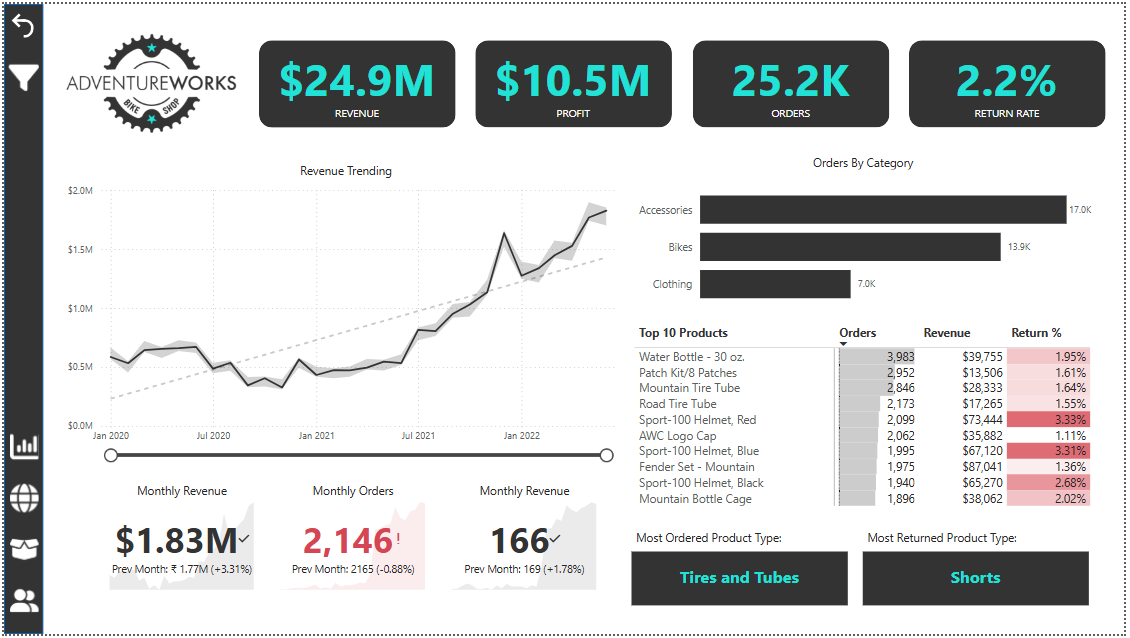

Layout of this report page (visuals, bound fields, positions):
{"tool":"powerbi","page":{"name":"Exec Dashboard","canvas":[1280,720],"ordinal":0},"visuals":[{"type":"image","title":"AW Logo","box":[45.3,10.2,246.2,161.2],"z":0},{"type":"shape","box":[291.2,42.3,225,100],"z":0,"group":"g2"},{"type":"shape","title":"Left Nav Background","box":[0,0,45,720],"z":1000},{"type":"shape","box":[538.6,42.1,225.1,99.9],"z":1000,"group":"g2"},{"type":"actionButton","box":[2.4,544.1,43.1,40.7],"z":1000,"group":"g4"},{"type":"group","id":"g1","title":"KPIs","box":[280,42.1,988.8,100.2],"z":2000},{"type":"group","id":"g2","title":"KPIs Background","box":[291.2,42.1,967.7,100.2],"z":2000,"group":"g1"},{"type":"shape","box":[786.2,42.1,225.1,99.9],"z":2000,"group":"g2"},{"type":"actionButton","box":[2.4,602.9,43.1,40.7],"z":2000,"group":"g4"},{"type":"shape","box":[1033.8,42.1,225.1,99.9],"z":3000,"group":"g2"},{"type":"card","fields":{"Values":["Mesures Table.Total Revenue"]},"box":[280,46.1,246.2,92.5],"z":3000,"group":"g3"},{"type":"lineChart","title":"Revenue Trending","fields":{"Y":["Mesures Table.Total Revenue"],"Category":["Calendar Lookup.Start of Month"]},"box":[67.5,181.2,647.5,345],"z":3000},{"type":"actionButton","box":[2.4,661.6,43.1,40.7],"z":3000,"group":"g4"},{"type":"card","fields":{"Values":["Mesures Table.Total Orders"]},"box":[775,46.1,246.2,92.5],"z":4000,"group":"g3"},{"type":"actionButton","box":[2.4,485.4,43.1,40.7],"z":4000,"group":"g4"},{"type":"kpi","title":"Monthly Revenue","fields":{"Indicator":["Mesures Table.Total Revenue"],"TrendLine":["Calendar Lookup.Start of Month"],"Goal":["Mesures Table.Previous Month Revenue"]},"box":[116.2,547.5,175,127.5],"z":4000},{"type":"card","fields":{"Values":["Mesures Table.Total Profit"]},"box":[527.5,46.1,246.2,92.5],"z":5000,"group":"g3"},{"type":"kpi","title":"Monthly Orders","fields":{"TrendLine":["Calendar Lookup.Start of Month"],"Goal":["Mesures Table.Previous Month Orders"],"Indicator":["Mesures Table.Total Orders"]},"box":[311.9,547.5,175,127.5],"z":5000},{"type":"card","fields":{"Values":["Mesures Table.Return Rate"]},"box":[1022.5,46.1,246.2,92.5],"z":6000,"group":"g3"},{"type":"kpi","title":"Monthly Revenue","fields":{"TrendLine":["Calendar Lookup.Start of Month"],"Indicator":["Mesures Table.Total Return"],"Goal":["Mesures Table.Previous Month Return"]},"box":[507.5,547.5,175,127.5],"z":6000},{"type":"group","id":"g3","title":"KPIs Values","box":[280,46.1,988.8,92.5],"z":6001,"group":"g1"},{"type":"clusteredBarChart","title":"Orders By Category","fields":{"Category":["Product Categories Lookup.CategoryName"],"Y":["Mesures Table.Total Orders"]},"box":[715.6,171.1,532.2,188.9],"z":7000},{"type":"pivotTable","fields":{"Rows":["Product Lookup.ProductName"],"Values":["Mesures Table.Total Orders","Mesures Table.Total Revenue","Mesures Table.Return Rate"]},"box":[715.7,360.8,532.3,231],"z":8000},{"type":"card","fields":{"Values":["Min(Product Subcategories Lookup.SubcategoryName)"]},"box":[717.1,625.5,247.1,61.5],"z":9000},{"type":"textbox","box":[717.1,595.4,231.4,30.1],"z":10000},{"type":"card","fields":{"Values":["Min(Product Subcategories Lookup.SubcategoryName)"]},"box":[981.3,625.2,258.4,61.9],"z":11000},{"type":"textbox","box":[981.3,595.5,232.2,31],"z":12000},{"type":"actionButton","box":[2.5,5,40,37.5],"z":13000},{"type":"group","id":"g4","title":"Navigation Buttons","box":[2.4,485.4,43.1,216.9],"z":14000},{"type":"actionButton","box":[1.2,61.2,42.5,46.2],"z":15000}]}

Visuals, with their boxes in screenshot pixels (x1, y1, x2, y2), scaled from the page's 1280x720 canvas onto the 1130x638 screenshot:
"AW Logo" image: <bbox>40, 9, 257, 152</bbox>
shape: <bbox>257, 37, 456, 126</bbox>
"Left Nav Background" shape: <bbox>0, 0, 40, 637</bbox>
shape: <bbox>475, 37, 674, 126</bbox>
actionButton: <bbox>2, 482, 40, 518</bbox>
"KPIs" group: <bbox>247, 37, 1120, 126</bbox>
"KPIs Background" group: <bbox>257, 37, 1111, 126</bbox>
shape: <bbox>694, 37, 893, 126</bbox>
actionButton: <bbox>2, 534, 40, 570</bbox>
shape: <bbox>913, 37, 1111, 126</bbox>
card - Mesures Table.Total Revenue: <bbox>247, 41, 465, 123</bbox>
"Revenue Trending" lineChart: <bbox>60, 161, 631, 466</bbox>
actionButton: <bbox>2, 586, 40, 622</bbox>
card - Mesures Table.Total Orders: <bbox>684, 41, 902, 123</bbox>
actionButton: <bbox>2, 430, 40, 466</bbox>
"Monthly Revenue" kpi: <bbox>103, 485, 257, 598</bbox>
card - Mesures Table.Total Profit: <bbox>466, 41, 683, 123</bbox>
"Monthly Orders" kpi: <bbox>275, 485, 430, 598</bbox>
card - Mesures Table.Return Rate: <bbox>903, 41, 1120, 123</bbox>
"Monthly Revenue" kpi: <bbox>448, 485, 603, 598</bbox>
"KPIs Values" group: <bbox>247, 41, 1120, 123</bbox>
"Orders By Category" clusteredBarChart: <bbox>632, 152, 1102, 319</bbox>
pivotTable - Product Lookup.ProductName x Mesures Table.Total Orders: <bbox>632, 320, 1102, 524</bbox>
card - Min(Product Subcategories Lookup.SubcategoryName): <bbox>633, 554, 851, 609</bbox>
textbox: <bbox>633, 528, 837, 554</bbox>
card - Min(Product Subcategories Lookup.SubcategoryName): <bbox>866, 554, 1094, 609</bbox>
textbox: <bbox>866, 528, 1071, 555</bbox>
actionButton: <bbox>2, 4, 38, 38</bbox>
"Navigation Buttons" group: <bbox>2, 430, 40, 622</bbox>
actionButton: <bbox>1, 54, 39, 95</bbox>
